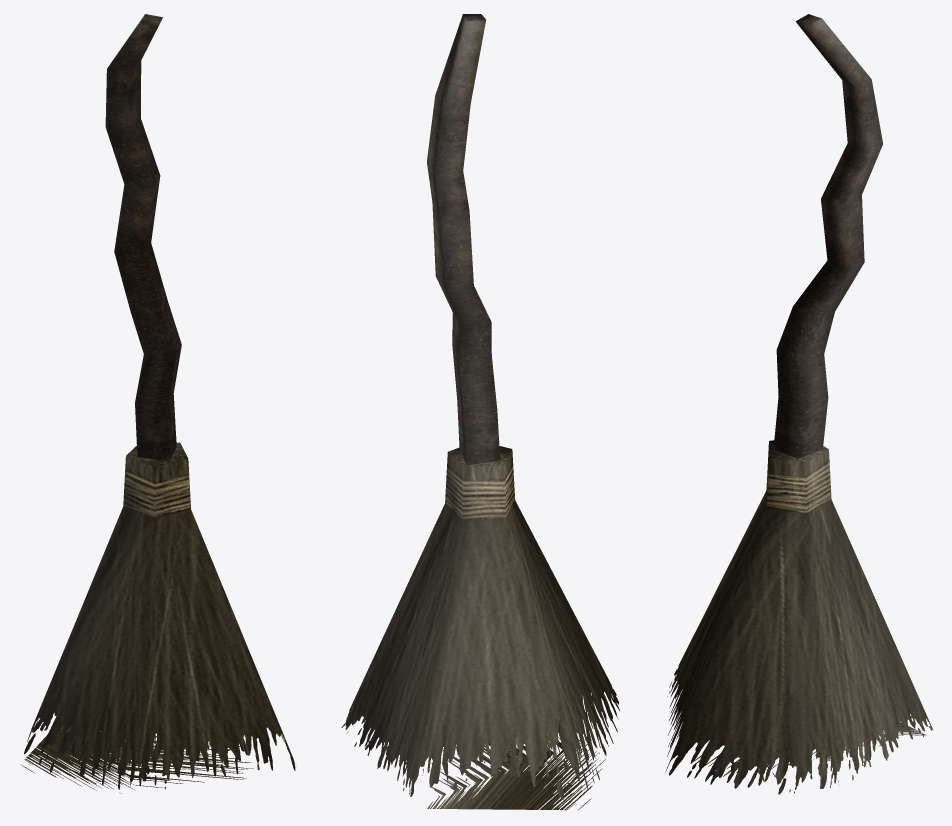
Rendered from BroomItem.FBX.
3 renders of one model, left to right at view 1: azimuth 30°, elevation 25°; view 2: azimuth 150°, elevation 25°; view 3: azimuth 270°, elevation 25°, orthographic. The views are drawn at different scales.
Visible parts, largest first — view 1: witch_broom; view 2: witch_broom; view 3: witch_broom.
Boxes of the visible parts, bbox=[...] form: witch_broom: bbox=[20, 14, 295, 793]; witch_broom: bbox=[341, 14, 619, 810]; witch_broom: bbox=[665, 14, 932, 794].
Bounding box in the file's own units: 47.3 × 133 × 44.99.
